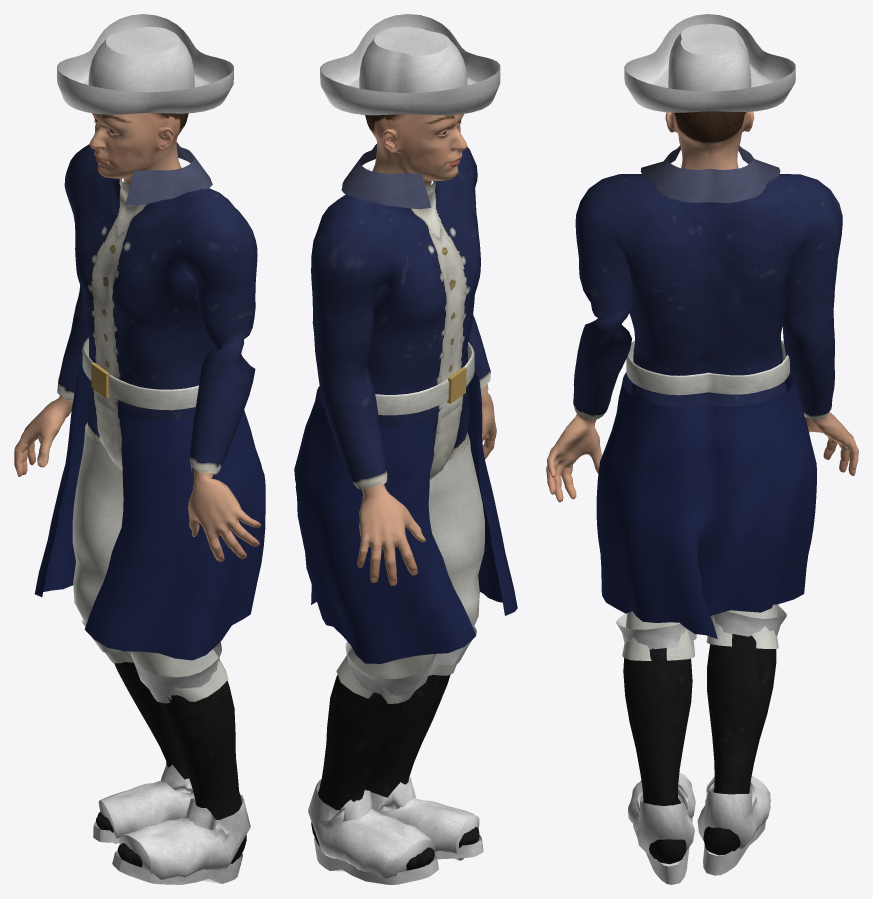
The model's file is SM_Art_Person_imperial_soldier.gltf.
3 views of the same model, side by side, from view 1: azimuth 30°, elevation 25°; view 2: azimuth 150°, elevation 25°; view 3: azimuth 270°, elevation 25° (orthographic). The views are drawn at different scales.
Parts seen in each view (by area): view 1: SM_Art_Person_imperial_soldier; view 2: SM_Art_Person_imperial_soldier; view 3: SM_Art_Person_imperial_soldier.
Boxes of the visible parts, bbox=[...] form: SM_Art_Person_imperial_soldier: bbox=[14, 14, 265, 884]; SM_Art_Person_imperial_soldier: bbox=[294, 14, 517, 884]; SM_Art_Person_imperial_soldier: bbox=[546, 14, 858, 884].
Bounding box in the file's own units: 0.4331 × 1.87 × 0.6526.
Materials: 16 (15 with a texture image).
